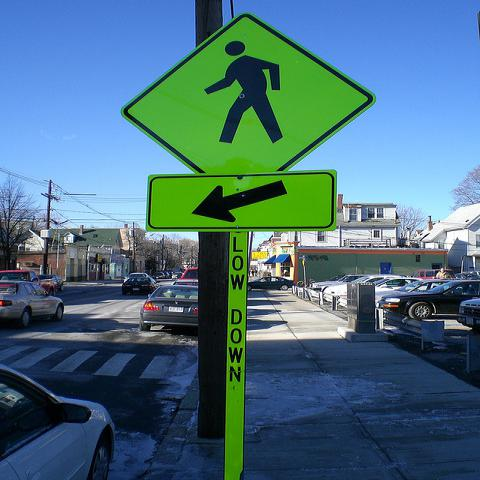car: (0, 362, 117, 480), (37, 272, 296, 292), (375, 282, 479, 320), (0, 280, 66, 327), (139, 284, 199, 332), (323, 275, 403, 307), (379, 275, 430, 297), (458, 289, 479, 332), (308, 275, 363, 291), (121, 277, 155, 295), (172, 268, 198, 285), (123, 272, 151, 282)
truck: (1, 266, 40, 292), (410, 270, 456, 280)
